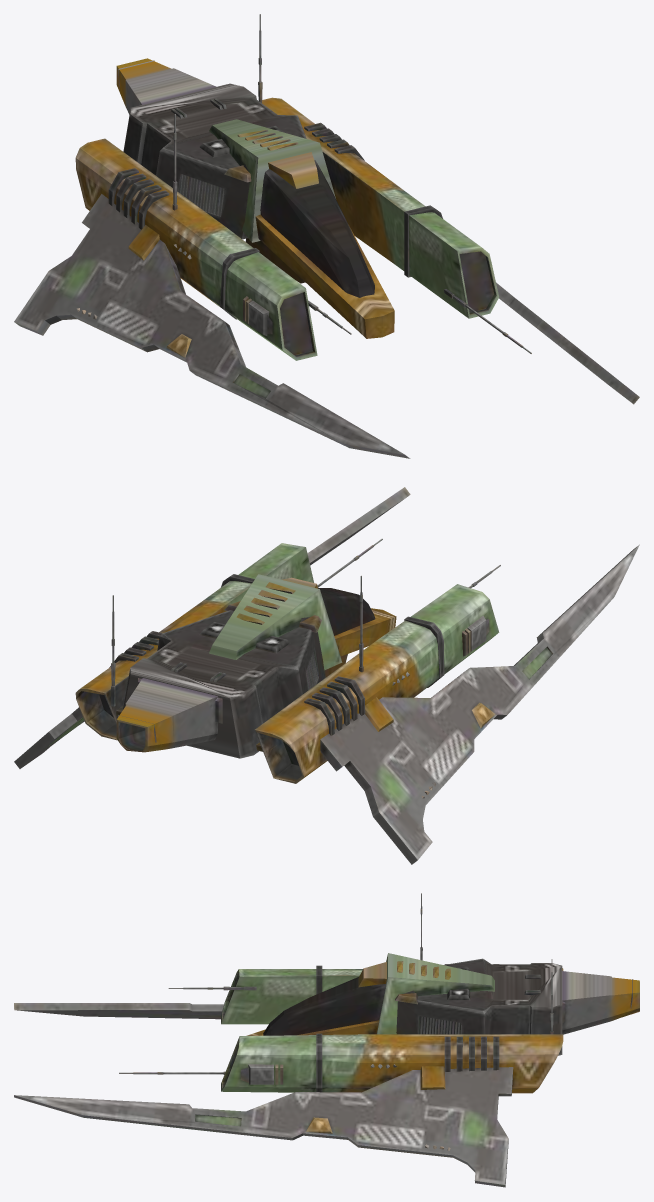
The model's file is wraith-green.glb.
3 renders of one model, top to bottom at view 1: azimuth 30°, elevation 25°; view 2: azimuth 150°, elevation 25°; view 3: azimuth 270°, elevation 25°, orthographic. The views are drawn at different scales.
Visible parts, largest first — view 1: Striker; view 2: Striker; view 3: Striker.
Boxes of the visible parts, x1,y1,x2,y2 form: Striker: (14,14,639,458); Striker: (14,487,639,864); Striker: (14,893,639,1187).
Size of the model in its own units: 5.03 by 2.68 by 8.43.
1 material, 1 textured.
